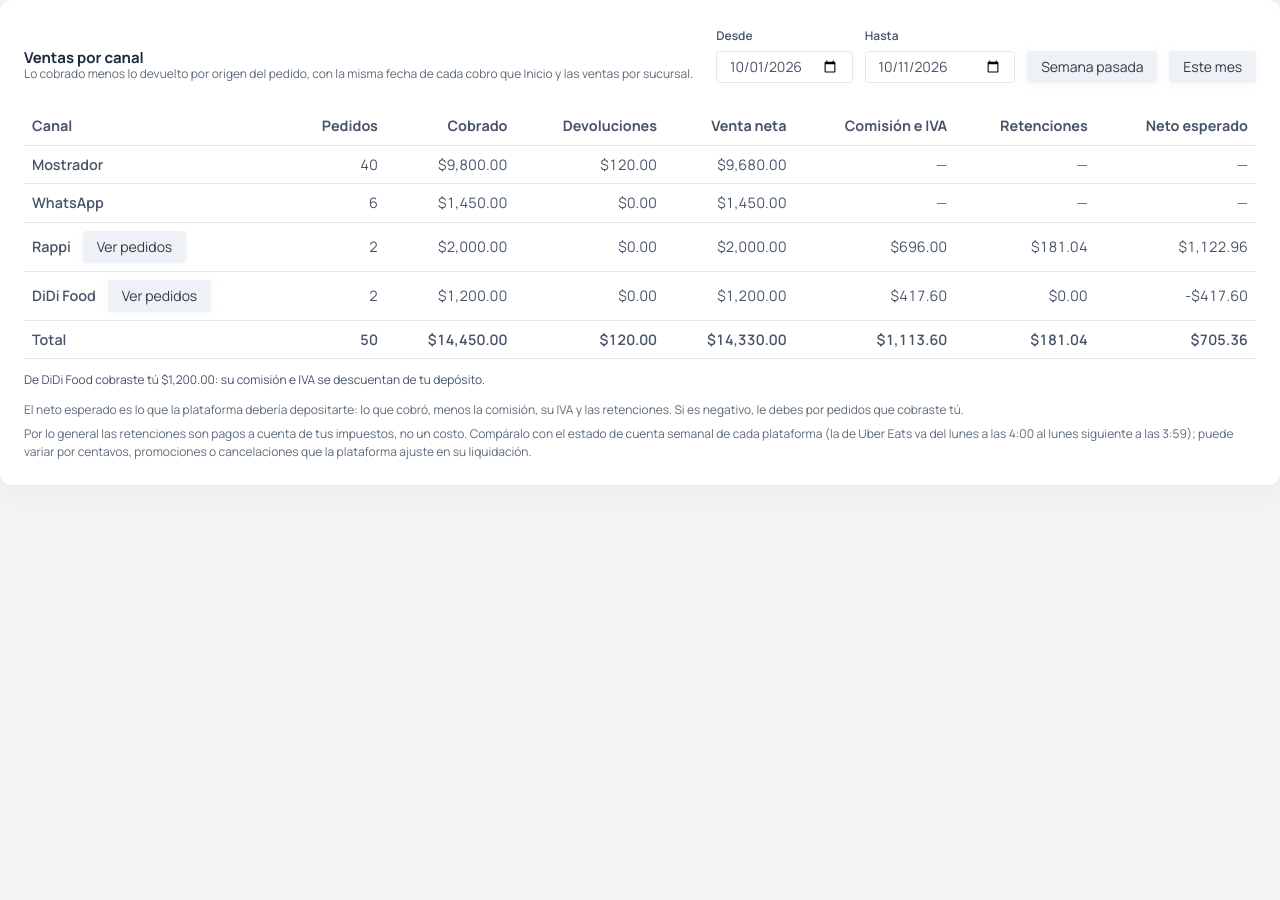
Scenario: SalesByChannelCard › names who charged each order and says when a platform had none in the period
Click the button with aria-label "Ver pedidos de DiDi Food" at (159,296), box top-left (108, 280), bottom-right (211, 312)
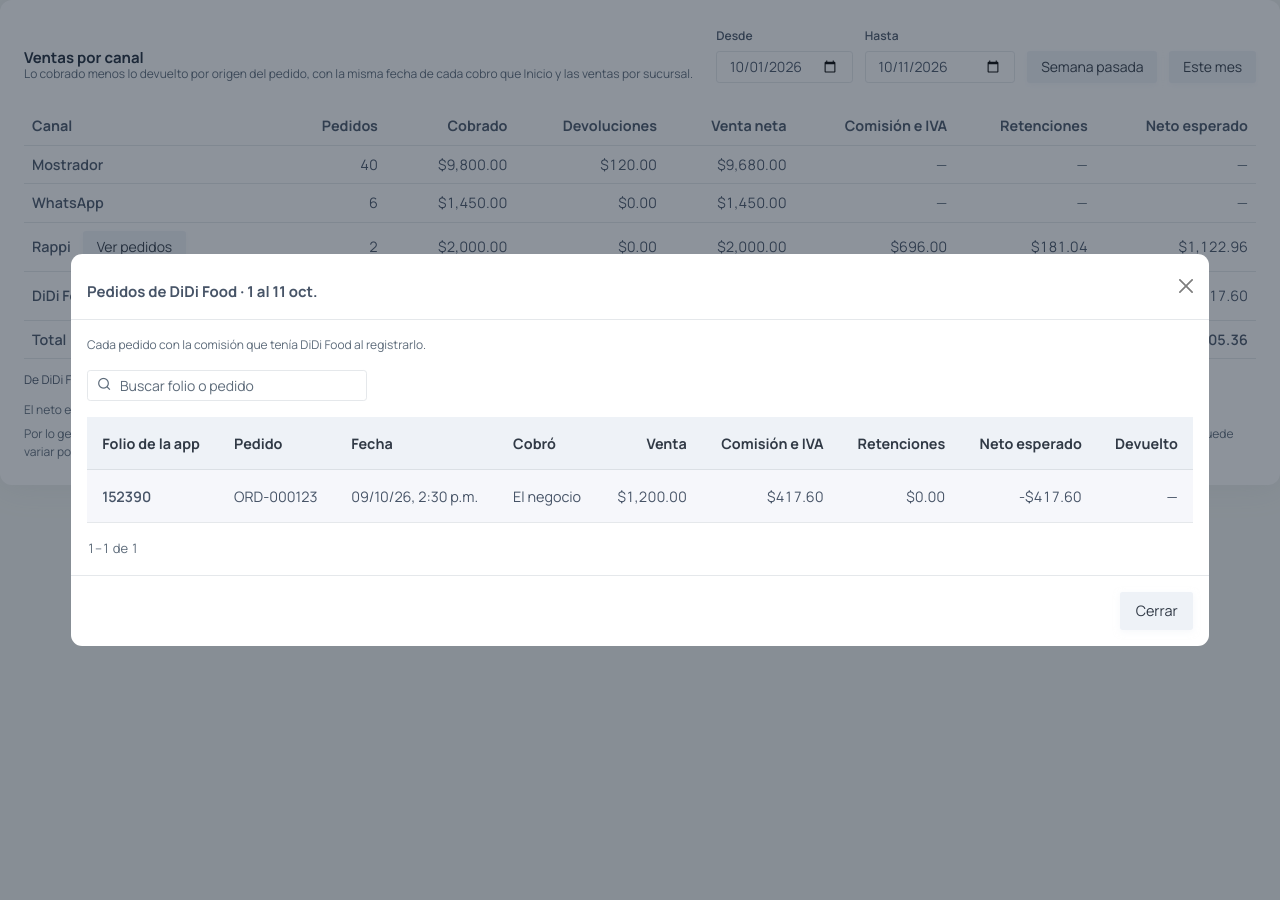
expect the row "152390" shows "El negocio": met, box top-left (513, 487), bottom-right (581, 506)
expect the row "152390" shows "-$417.60": met, box top-left (1019, 487), bottom-right (1082, 506)
Click the button "Cerrar" at (1157,611), box top-left (1120, 592), bottom-right (1193, 630)
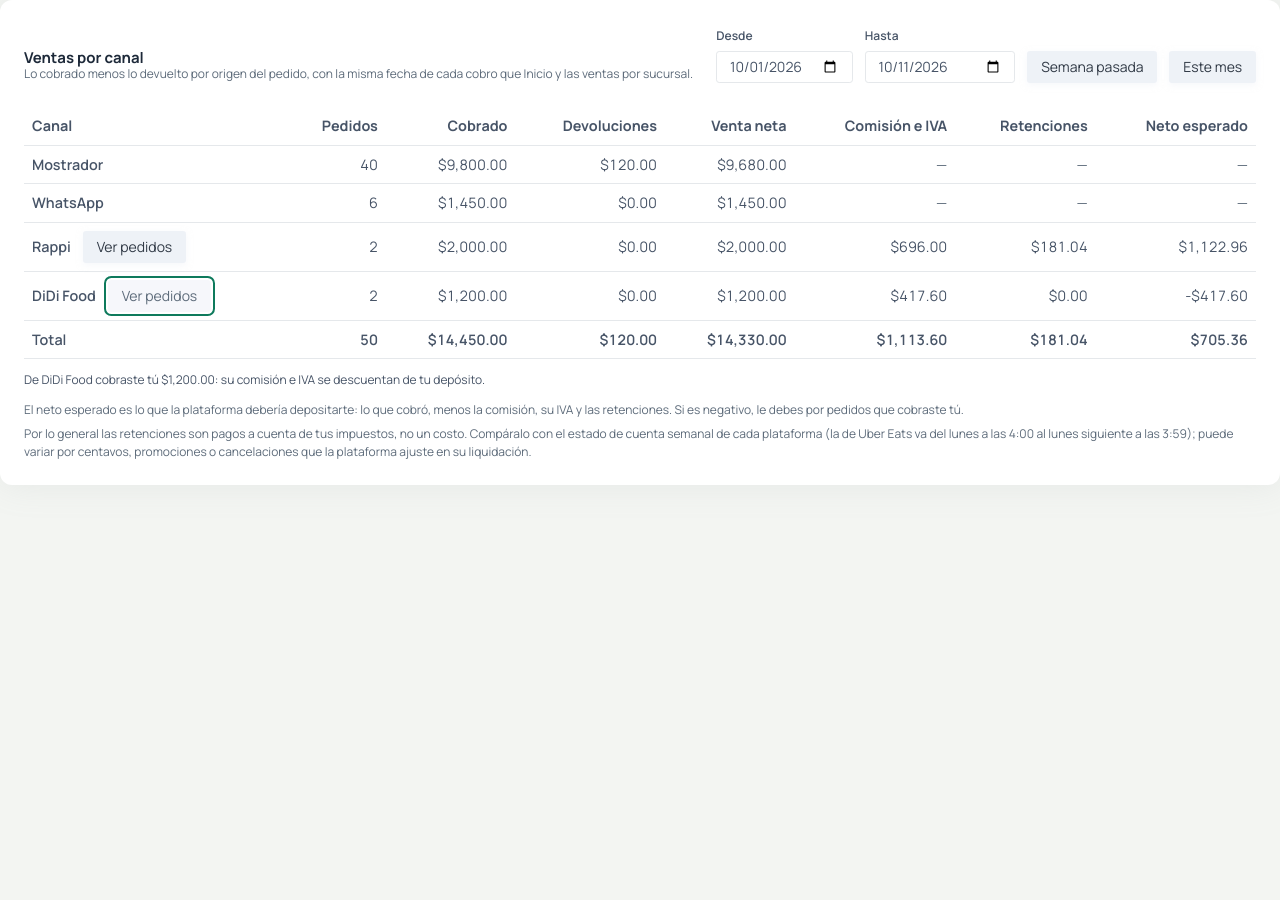
expect the dialog is gone: met
Click the button with aria-label "Ver pedidos de Rappi" at (134,247), box top-left (83, 231), bottom-right (186, 263)
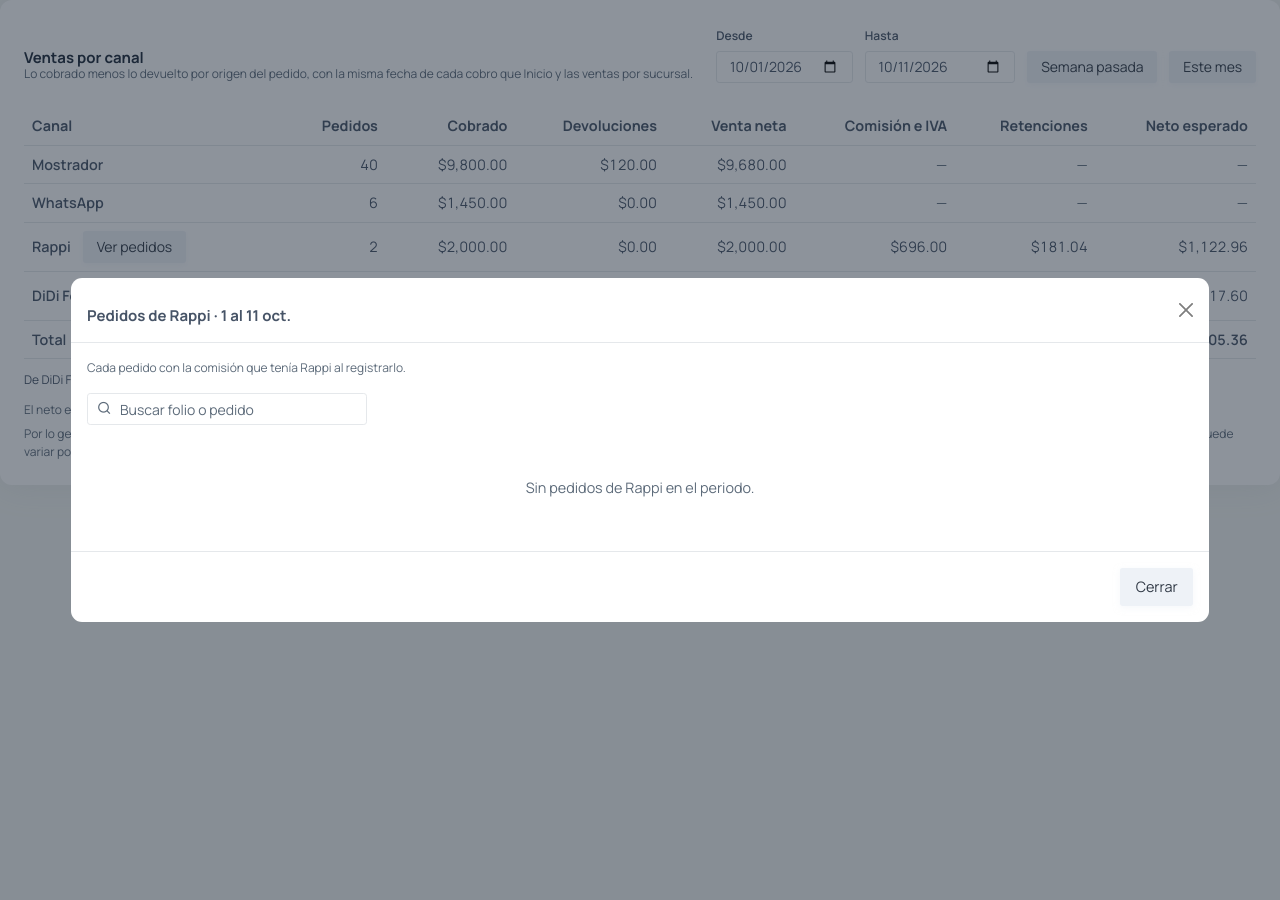
expect the text "Sin pedidos de Rappi en el periodo." is shown: met, box top-left (526, 478), bottom-right (754, 497)
